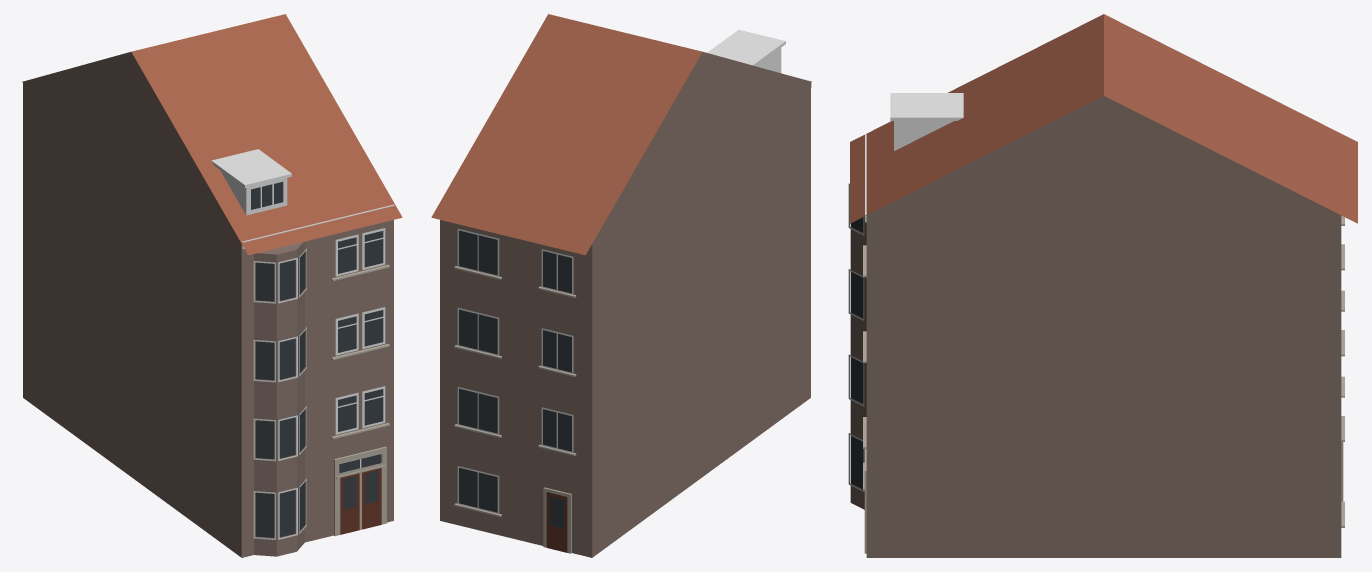
The model's file is we-pk-bay__brown__4__gable__long__solid__f0d1.glb.
3 renders of one model, left to right at view 1: azimuth 30°, elevation 25°; view 2: azimuth 150°, elevation 25°; view 3: azimuth 270°, elevation 25°, orthographic. The views are drawn at different scales.
Visible parts, largest first — view 1: we-pk-bay__brown__4__gable__long__solid__f0d1; view 2: we-pk-bay__brown__4__gable__long__solid__f0d1; view 3: we-pk-bay__brown__4__gable__long__solid__f0d1.
Boxes of the visible parts, box(x1,y1,x2,y2) form: we-pk-bay__brown__4__gable__long__solid__f0d1: box(22, 14, 402, 557); we-pk-bay__brown__4__gable__long__solid__f0d1: box(431, 14, 811, 557); we-pk-bay__brown__4__gable__long__solid__f0d1: box(848, 14, 1357, 557).
Bounding box in the file's own units: 6.36 × 16.78 × 16.76.
